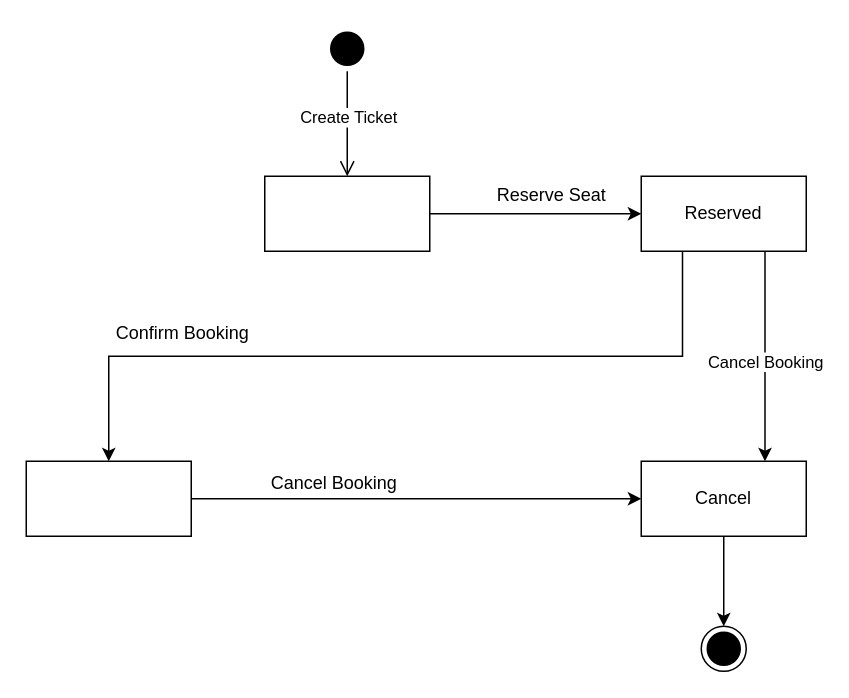
Image size: 849x698. Some labels were removed from this diagram. The shapes that lost their labels are listed below. From the top down, each one's box as (x1, y1, x2, y2) in pixels, then its label:
(263, 175, 430, 251): Created
(25, 460, 191, 536): Confirmed
